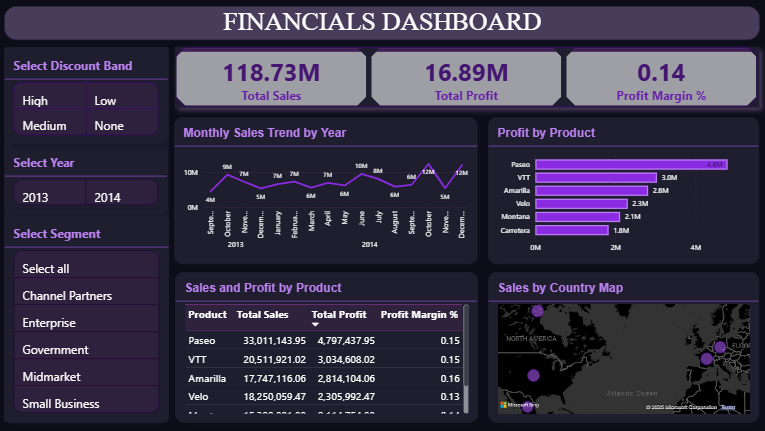

Layout of this report page (visuals, bound fields, positions):
{"tool":"powerbi","page":{"name":"FINANCIALS ","canvas":[1280,720],"ordinal":0},"visuals":[{"type":"shape","box":[10,90,275,630],"z":0},{"type":"textbox","box":[10.8,0,1258.4,67.9],"z":1000},{"type":"cardVisual","fields":{"Data":["financials.Total Sales","financials.Total Profit","financials.Profit Margin %"]},"box":[294.8,80.8,973.7,107.7],"z":2000},{"type":"lineChart","fields":{"Y":["financials.Total Sales"],"Category":["financials.Date.Variation.Date Hierarchy.Year","financials.Date.Variation.Date Hierarchy.Month"]},"box":[293.4,206.9,506,235.3],"z":3000},{"type":"advancedSlicerVisual","fields":{"Values":["financials.Year"]},"box":[10.8,242.1,274.5,117.2],"z":4000},{"type":"actionButton","box":[0,0,100,40],"z":4001},{"type":"advancedSlicerVisual","fields":{"Values":["financials.Segment"]},"box":[9.3,359.3,274.5,347],"z":4002},{"type":"advancedSlicerVisual","fields":{"Values":["financials.Discount Band"]},"box":[9.3,80.2,274.5,161.9],"z":4003},{"type":"barChart","fields":{"Category":["financials.Product"],"Y":["financials.Total Profit"]},"box":[816.4,206.9,452.1,235.3],"z":4004},{"type":"tableEx","fields":{"Values":["financials.Product","financials.Total Sales","financials.Total Profit","financials.Profit Margin %"]},"box":[294.8,455,504.6,250.9],"z":4005},{"type":"map","fields":{"Category":["financials.Country"],"Size":["financials.Total Sales"]},"box":[816.4,455,452.1,250.9],"z":4006}]}

Visuals, with their boxes in screenshot pixels (x1, y1, x2, y2), scaled from the page's 1280x720 canvas onto the 765x431 screenshot:
shape: 6,54,170,430
textbox: 6,0,759,41
cardVisual - financials.Total Sales x financials.Total Profit: 176,48,758,113
lineChart - financials.Total Sales x financials.Date.Variation.Date Hierarchy.Year: 175,124,478,265
advancedSlicerVisual - financials.Year: 6,145,171,215
actionButton: 0,0,60,24
advancedSlicerVisual - financials.Segment: 6,215,170,423
advancedSlicerVisual - financials.Discount Band: 6,48,170,145
barChart - financials.Product x financials.Total Profit: 488,124,758,265
tableEx - financials.Product x financials.Total Sales: 176,272,478,423
map - financials.Country x financials.Total Sales: 488,272,758,423
